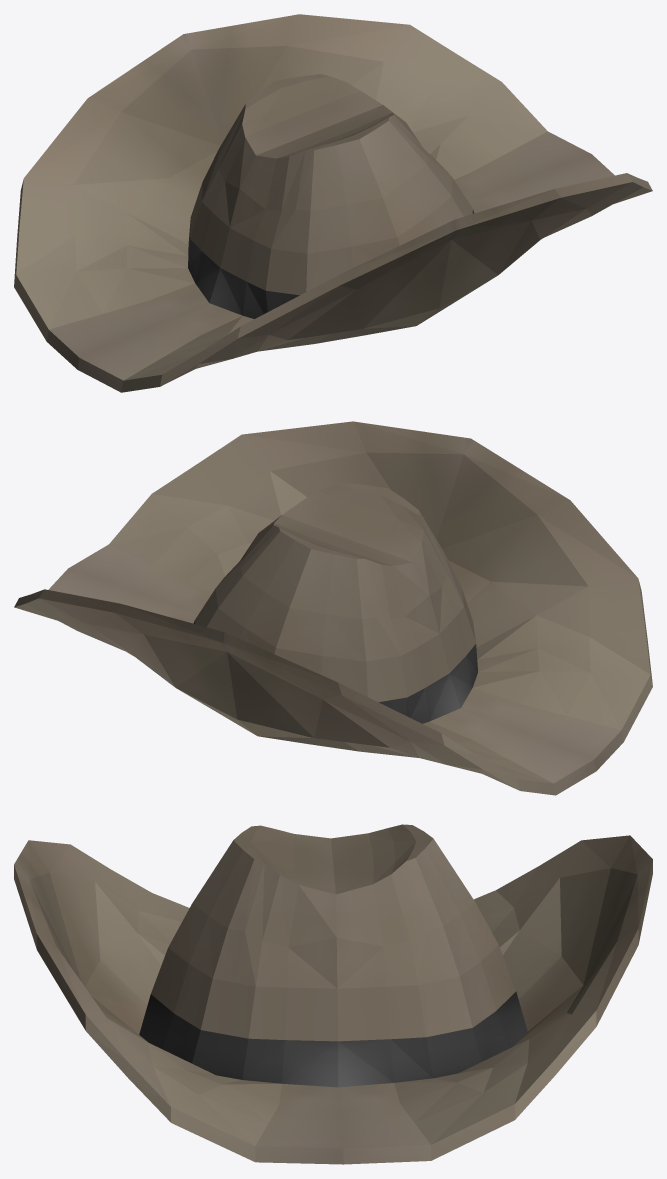
Rendered from COWBOY HAT.fbx.
3 renders of one model, top to bottom at view 1: azimuth 30°, elevation 25°; view 2: azimuth 150°, elevation 25°; view 3: azimuth 270°, elevation 25°, orthographic. The views are drawn at different scales.
Parts seen in each view (by area): view 1: COWBOY_HAT; view 2: COWBOY_HAT; view 3: COWBOY_HAT.
Boxes of the visible parts, <box> form: COWBOY_HAT: <box>14,14,652,392</box>; COWBOY_HAT: <box>14,421,652,795</box>; COWBOY_HAT: <box>14,824,652,1164</box>.
Bounding box in the file's own units: 49.2 × 17.88 × 41.94.
